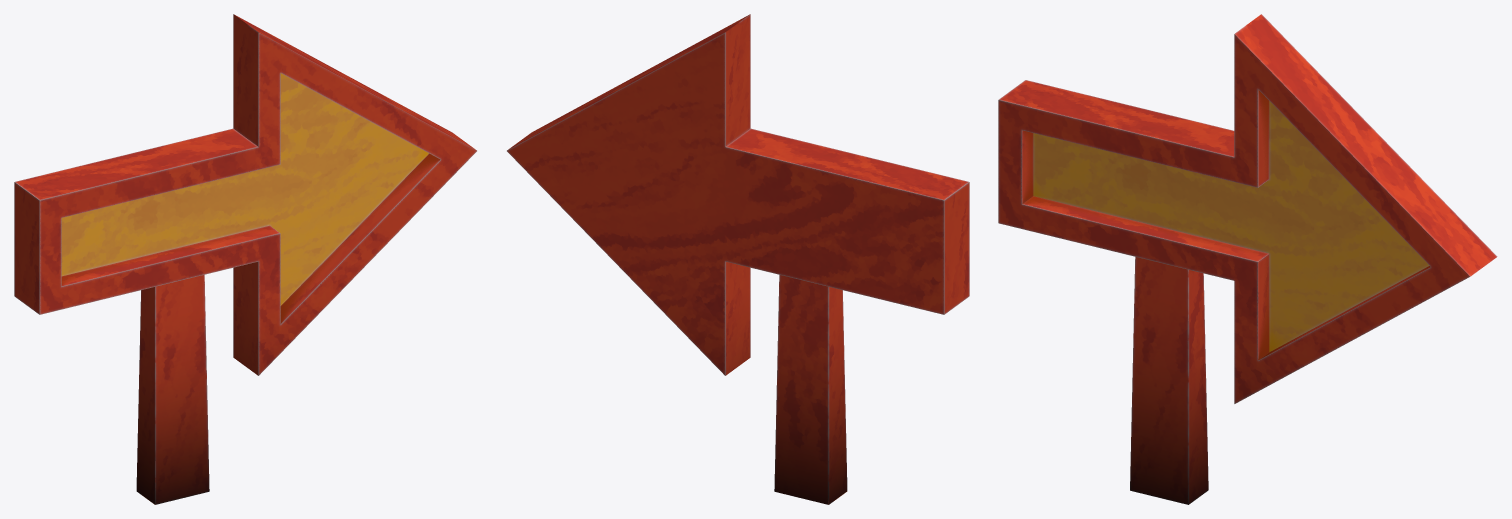
File: Penanda Jalan.fbx
The picture shows the model from 3 angles, left to right: view 1: azimuth 30°, elevation 25°; view 2: azimuth 150°, elevation 25°; view 3: azimuth 330°, elevation 25°; orthographic projection. The views are drawn at different scales.
Visible parts, largest first — view 1: PanahJalan; view 2: PanahJalan; view 3: PanahJalan.
Boxes of the visible parts, box(x1,y1,x2,y2) form: PanahJalan: box(14, 14, 476, 504); PanahJalan: box(507, 14, 969, 504); PanahJalan: box(998, 14, 1497, 504).
Size of the model in its own units: 600 by 60 by 590.
